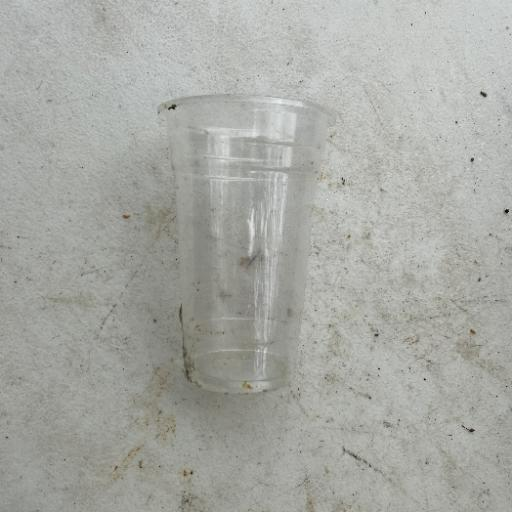Plastic: (155, 91, 338, 397)
